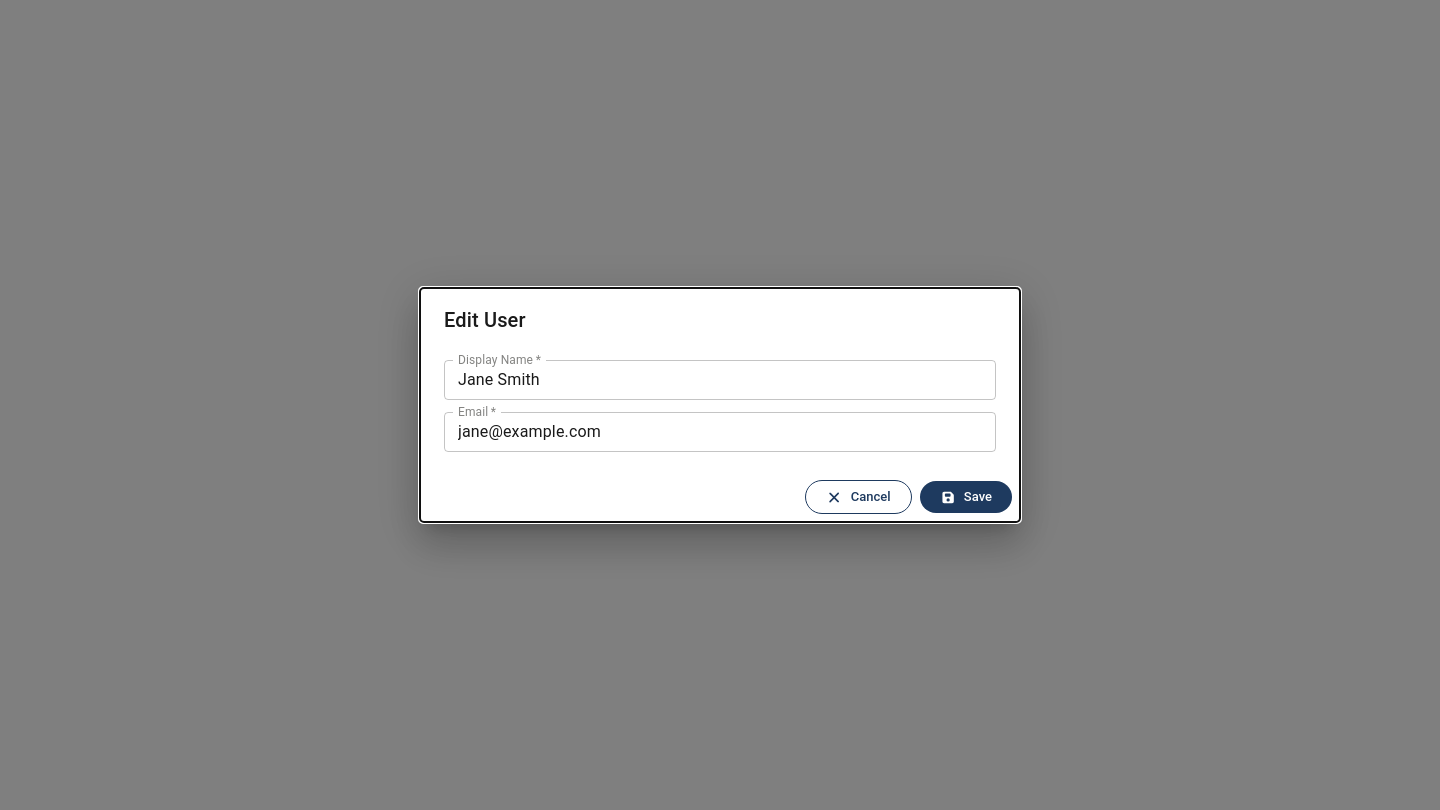
Test: EditUserDialog › displays error message on save failure
The image size is (1440, 810).
Click the button "Save": (966, 497) [920,481,1012,513]
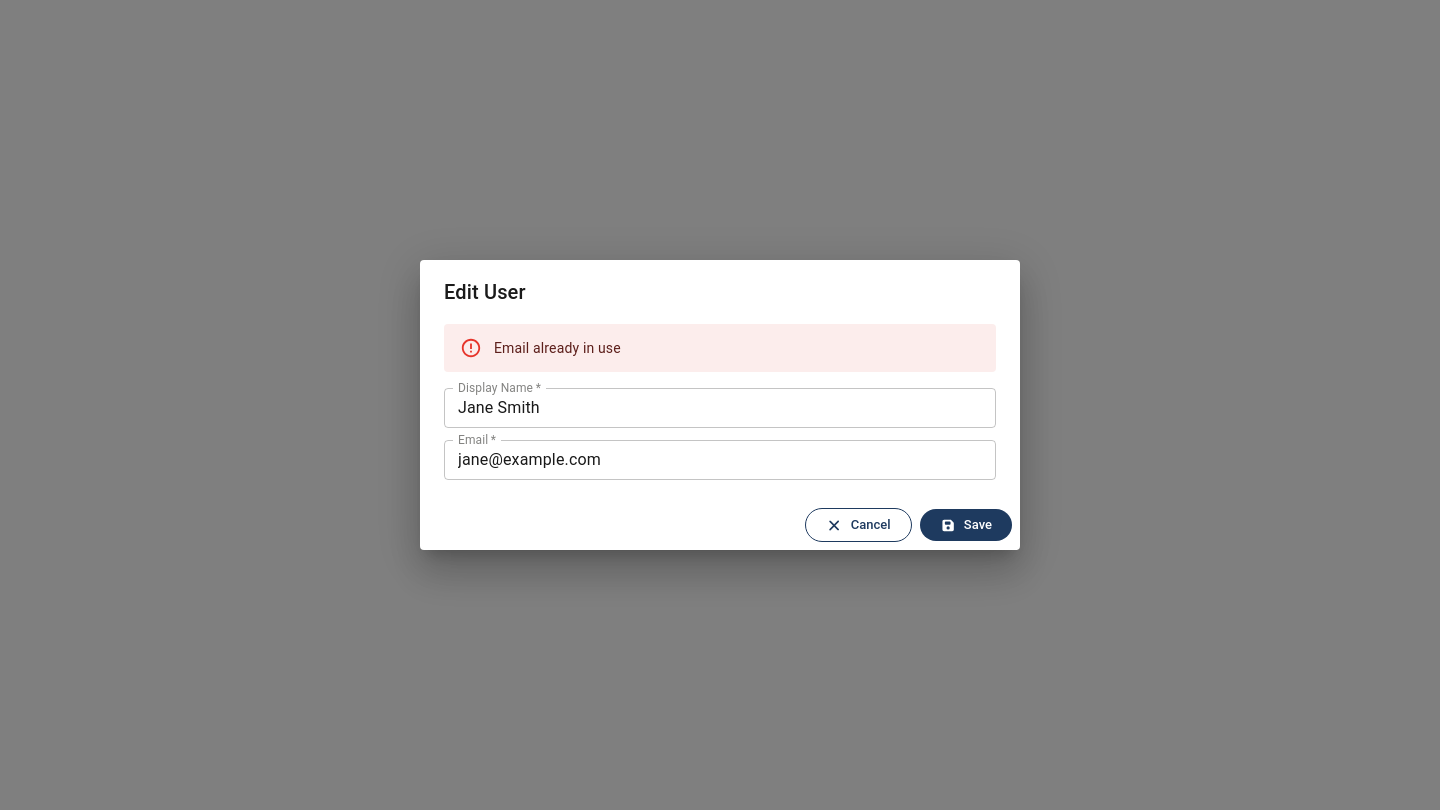
Check: the text "Email already in use" is shown, box [494,340,621,356]
